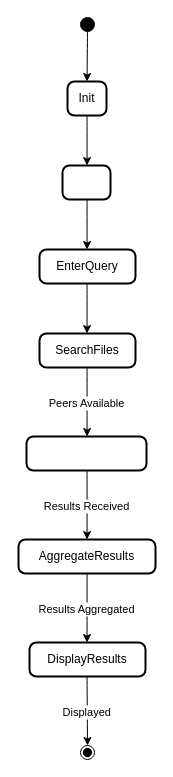
This 173x777 diagram has some shape labels left out. The box of each missing label's shape, as (x1, y1, x2, y2) in pixels:
Auth: (61, 164, 111, 200)
ReceiveResults: (25, 435, 147, 471)
